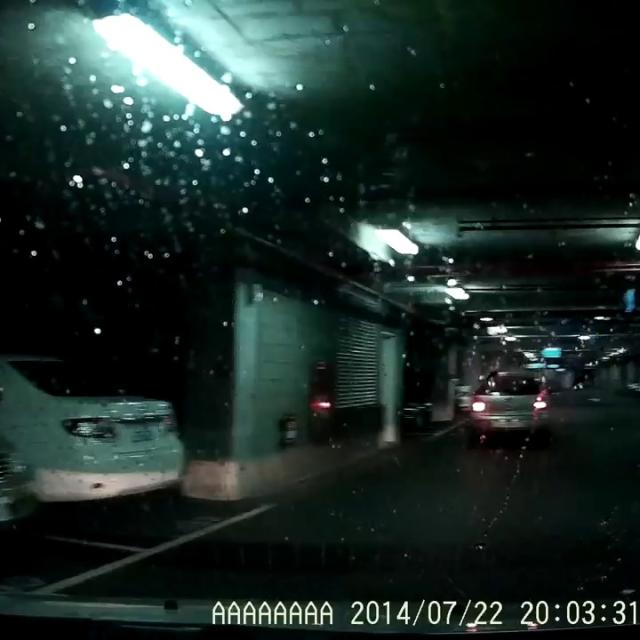Car: (0, 351, 186, 509), (467, 365, 548, 438)
